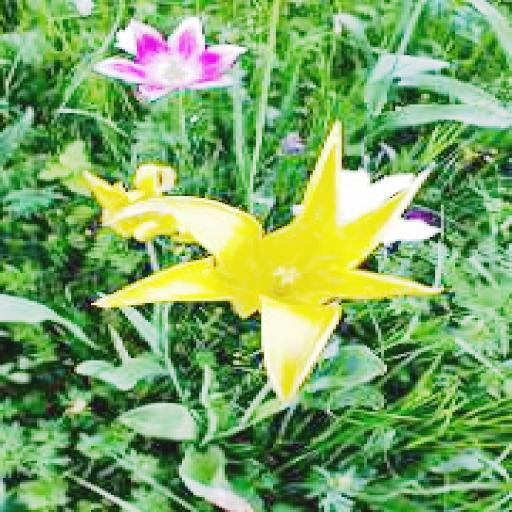tulip: (108, 119, 441, 384), (108, 17, 239, 98)
